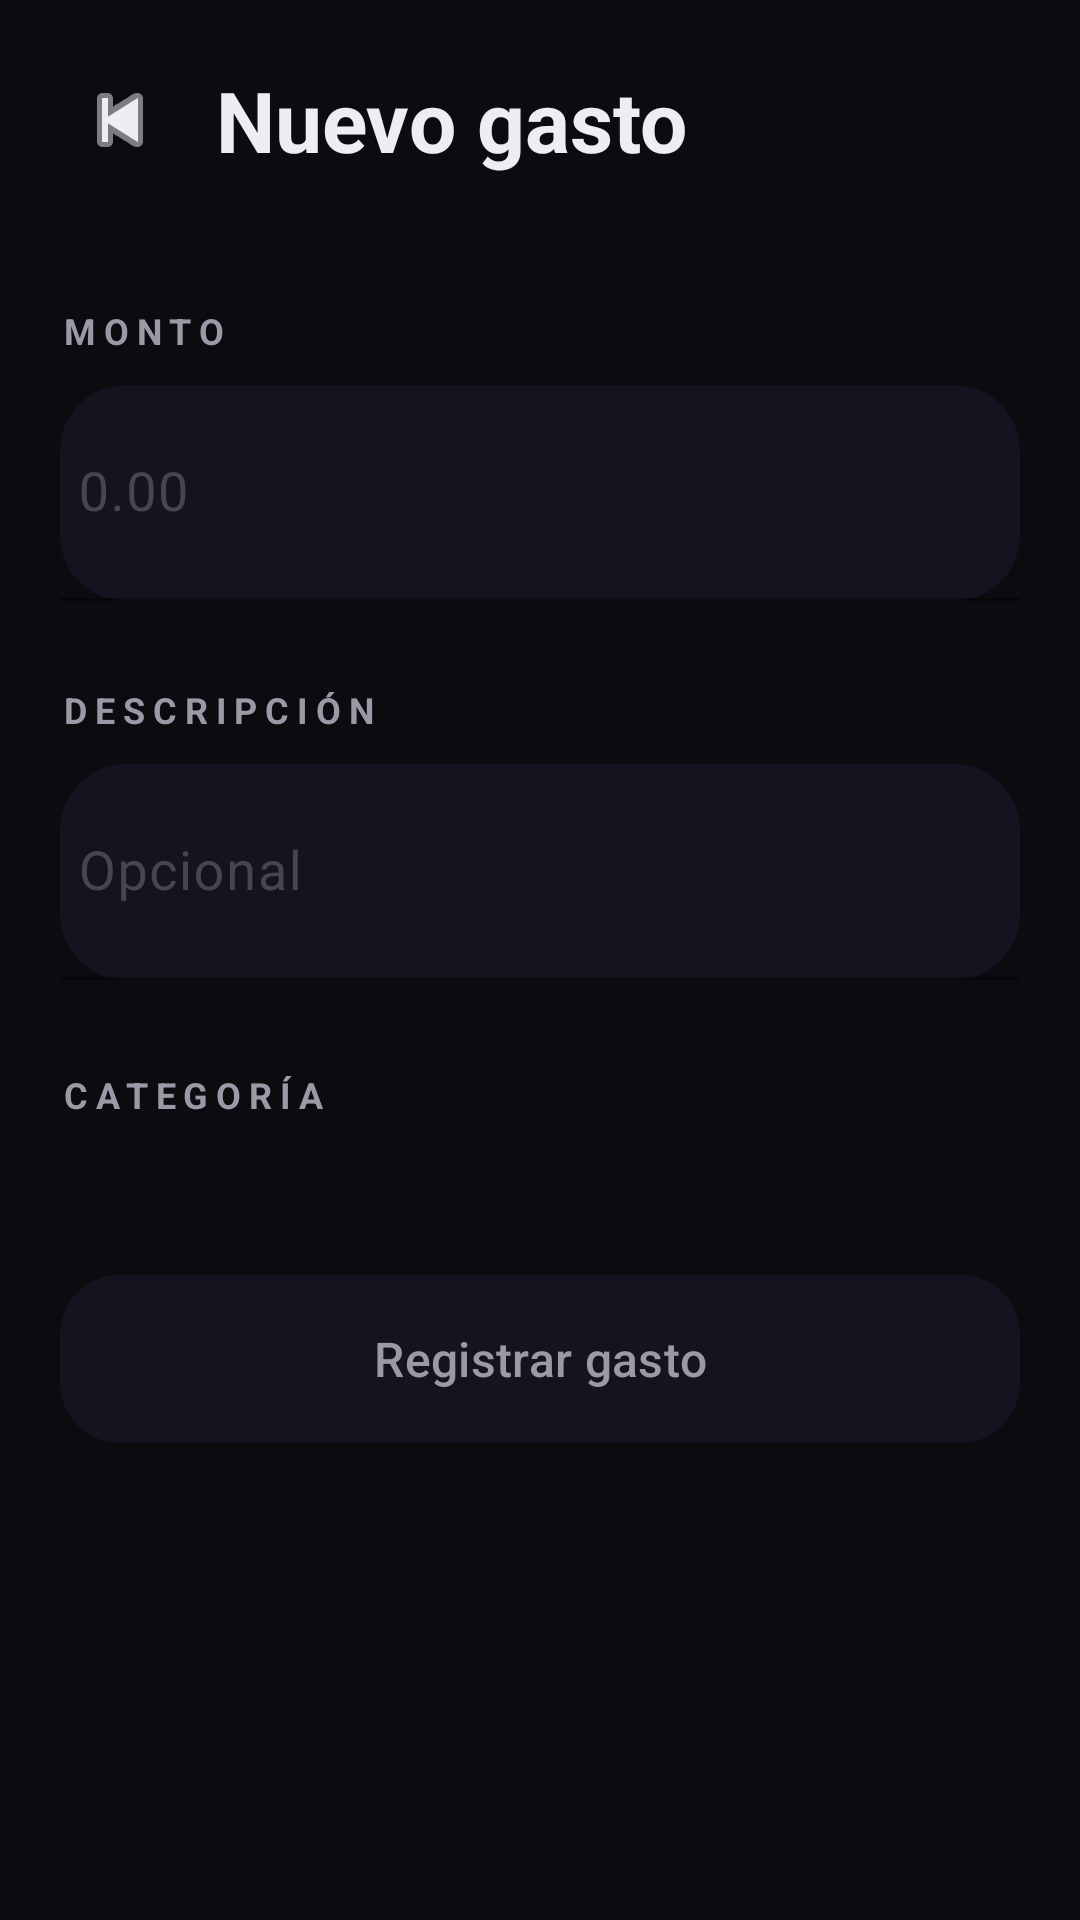

Icons on this 1080px×1920px Android screen, each with the point to tap as (x,y):
Volver: (120,120)
